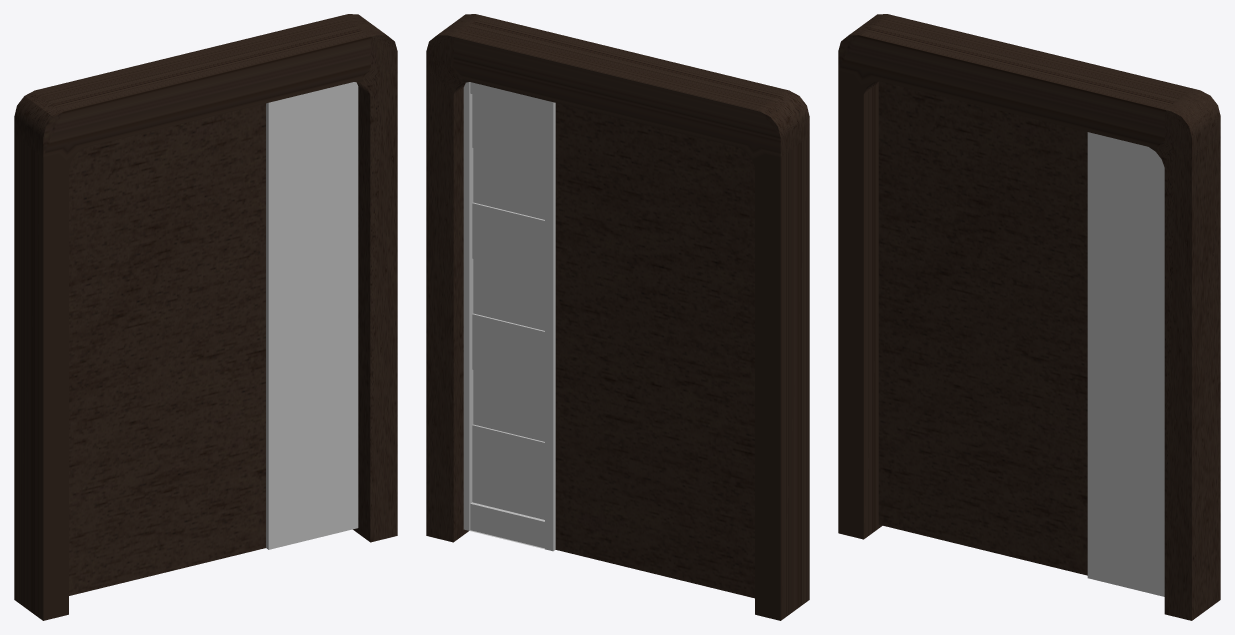
The model's file is Door for kitchen.fbx.
3 renders of one model, left to right at view 1: azimuth 30°, elevation 25°; view 2: azimuth 150°, elevation 25°; view 3: azimuth 330°, elevation 25°, orthographic.
Parts seen in each view (by area): view 1: pasted__pasted__pCube742, pasted__pasted__pCube741, pasted__pCube836; view 2: pasted__pasted__pCube742, pasted__pasted__pCube741, pasted__pCube836; view 3: pasted__pasted__pCube742, pasted__pasted__pCube741, pasted__pCube836.
Part boxes in pixels (x1,y1,x2,y2): pasted__pasted__pCube742: (69, 103, 265, 595); pasted__pasted__pCube741: (14, 14, 397, 620); pasted__pCube836: (266, 82, 358, 549); pasted__pasted__pCube742: (555, 103, 754, 598); pasted__pasted__pCube741: (426, 14, 809, 620); pasted__pCube836: (463, 82, 555, 551); pasted__pasted__pCube742: (878, 81, 1087, 575); pasted__pasted__pCube741: (838, 14, 1220, 620); pasted__pCube836: (1087, 132, 1164, 596).
Bounding box in the file's own units: 211 × 287 × 29.82.
